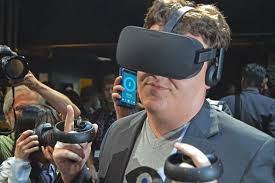oculus: (113, 23, 207, 83)
